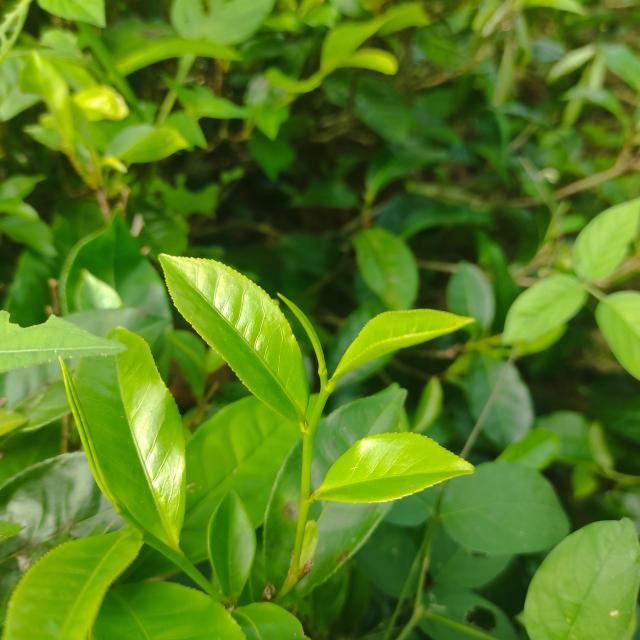unopened_leaf: (45, 350, 134, 534), (68, 12, 158, 139), (271, 287, 336, 396)
